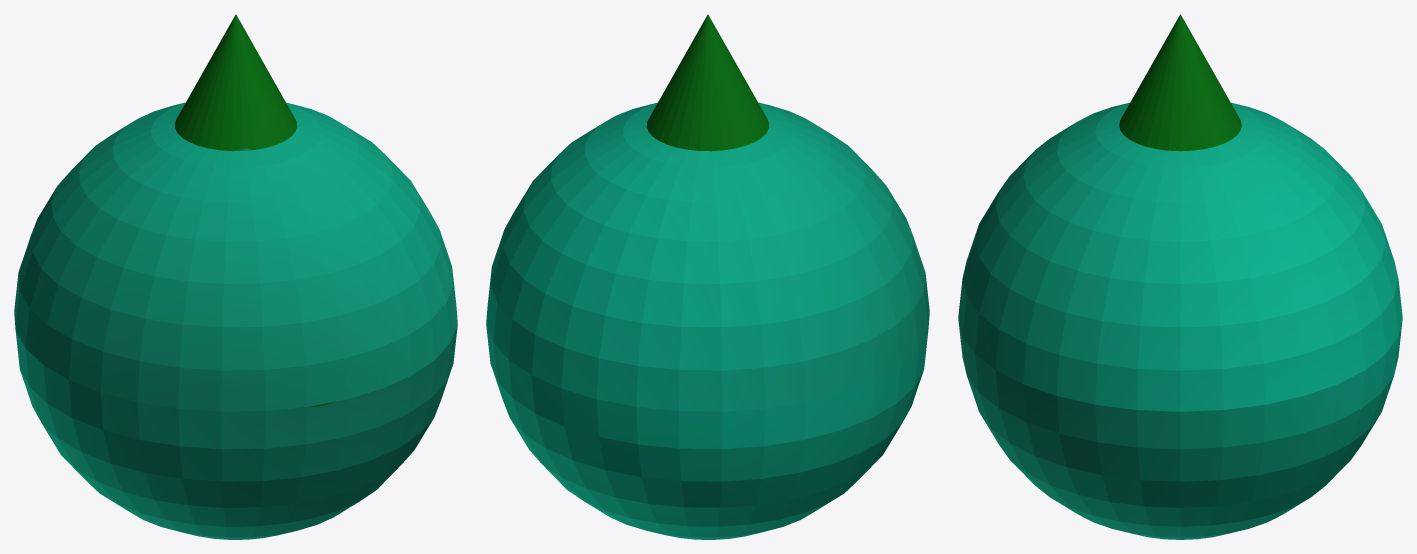
Rendered from bomb.obj.
3 renders of one model, left to right at view 1: azimuth 30°, elevation 25°; view 2: azimuth 150°, elevation 25°; view 3: azimuth 270°, elevation 25°, orthographic.
Parts seen in each view (by area): view 1: 円錐; view 2: 円錐; view 3: 円錐.
Boxes of the visible parts, left/top/right/bottom form: 円錐: left=14, top=14, right=457, bottom=539; 円錐: left=486, top=14, right=929, bottom=539; 円錐: left=958, top=14, right=1402, bottom=539.
Size of the model in its own units: 4 by 5.02 by 4.
1 material, 1 textured.
